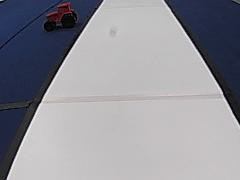Tracktor: (42, 0, 78, 33)
